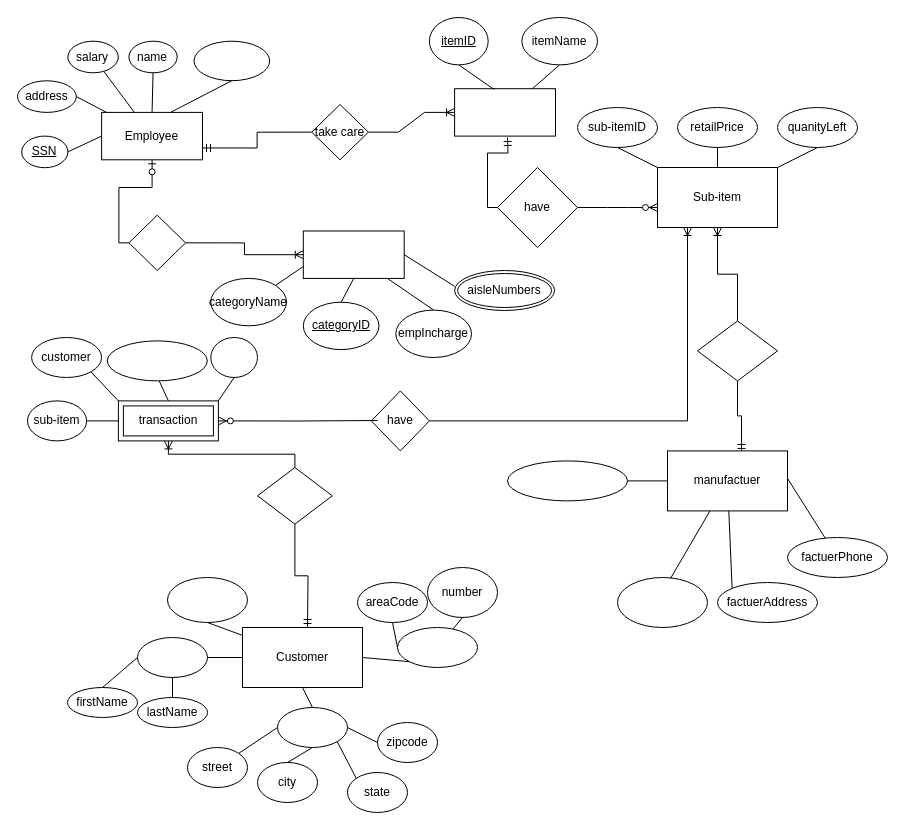
The diagram is 905 pixels wide and 830 high, and some of its shapes have lost their labels. The shapes that lost their labels are listed below. From the top down, each one's centre as x and y in pixels, then its label:
(231,60): telephone number
(505,112): item
(157,242): manage
(353,254): Category
(156,360): date and time
(234,357): quantity
(737,350): supplied by
(294,495): created by
(567,480): personContact
(207,599): customerID
(662,602): factuerName
(172,657): cusName
(437,647): cusPhone
(312,727): cusAddress
